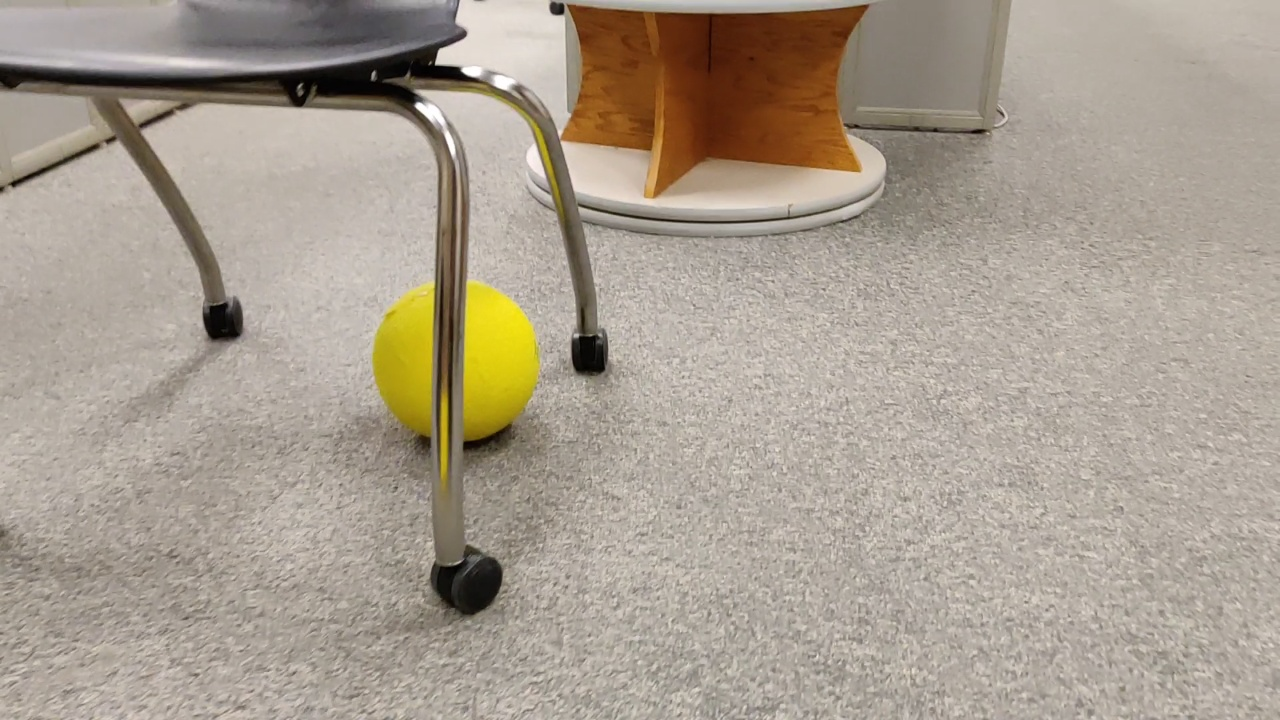Ball: (374, 276, 537, 442)
